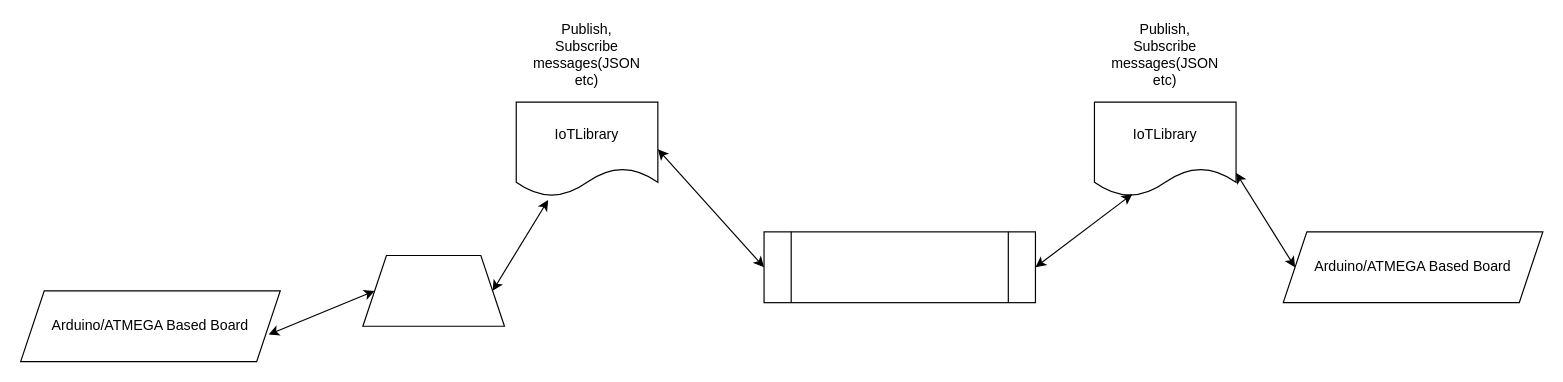
Some shapes in this 1563 by 382 pixel diagram are drawn without their labels. The shapes that lost their labels are listed below. From the top down, each one's centre as x and y in pixels, then its label:
At [899,267]: "SerialIoTConnectionHandler.h".
At [433,290]: "MQTTPubSub Lib".
